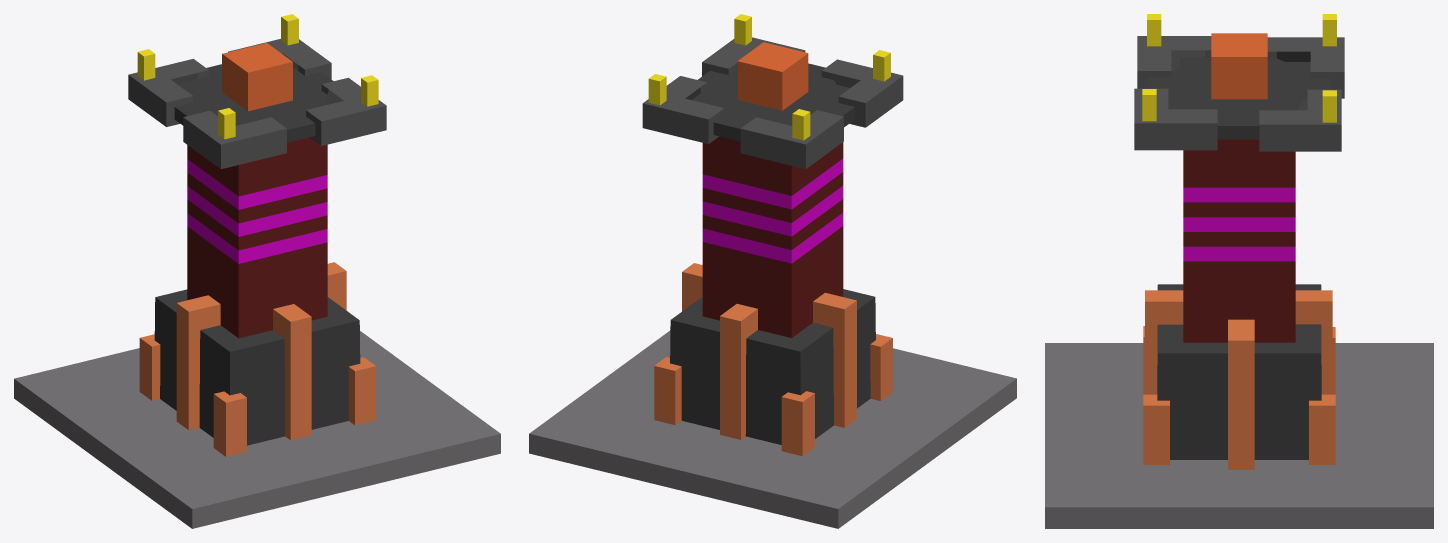
File: turret_Lv3.fbx
3 renders of one model, left to right at view 1: azimuth 30°, elevation 25°; view 2: azimuth 150°, elevation 25°; view 3: azimuth 270°, elevation 25°, orthographic. The views are drawn at different scales.
Visible parts, largest first — view 1: Cube.010; view 2: Cube.010; view 3: Cube.010.
Part boxes in pixels (x1,y1,x2,y2): Cube.010: (14, 14, 500, 528); Cube.010: (529, 14, 1016, 528); Cube.010: (1045, 14, 1433, 528).
Size of the model in its own units: 200 by 227 by 200.
